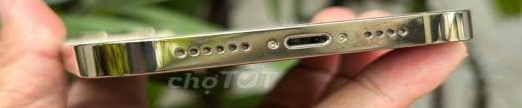scratch: (344, 11, 439, 58)
